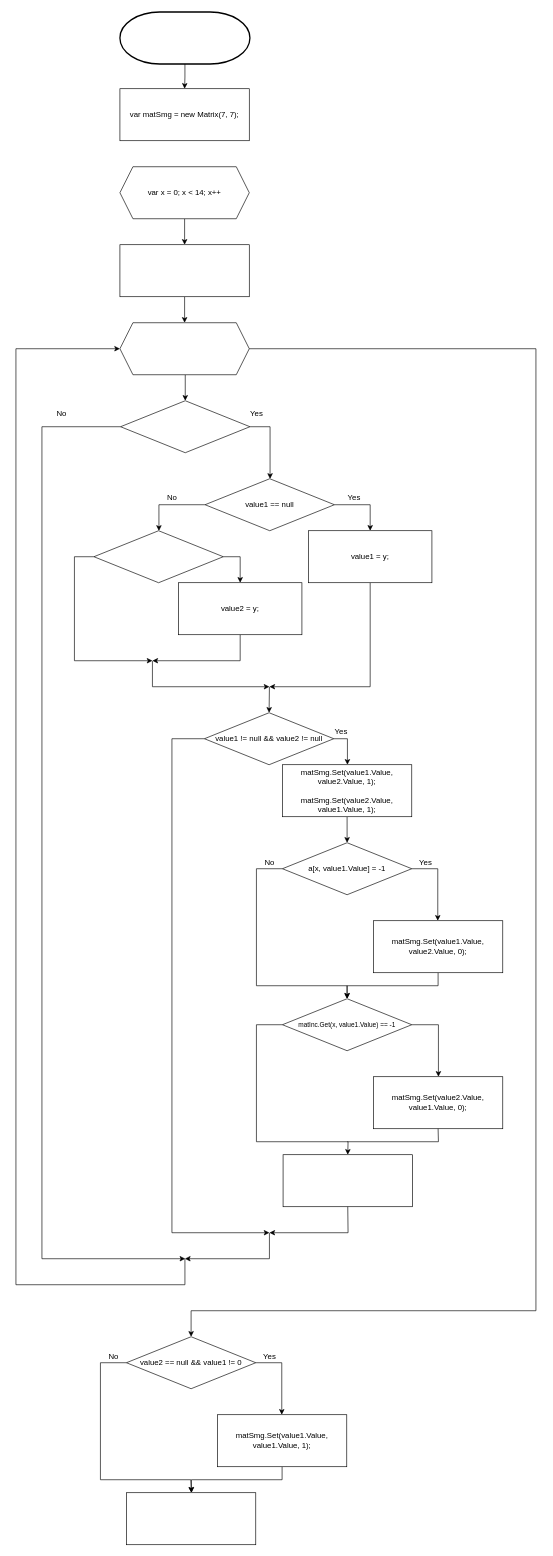
This 553x1556 diagram has some shape labels left out. The box of each missing label's shape, as (x1, y1, x2, y2) in pixels:
a[x,y] =1 || a[x,y] = -1: (120, 400, 250, 453)
break: (282, 1154, 412, 1207)
int? value1 = null; int? value2 = null;: (119, 244, 249, 297)
return matSmg: (126, 1492, 256, 1545)
value2 == null: (93, 530, 223, 583)
var y = 0; y < 7; y++: (119, 322, 249, 375)
Начало: (119, 11, 250, 64)
